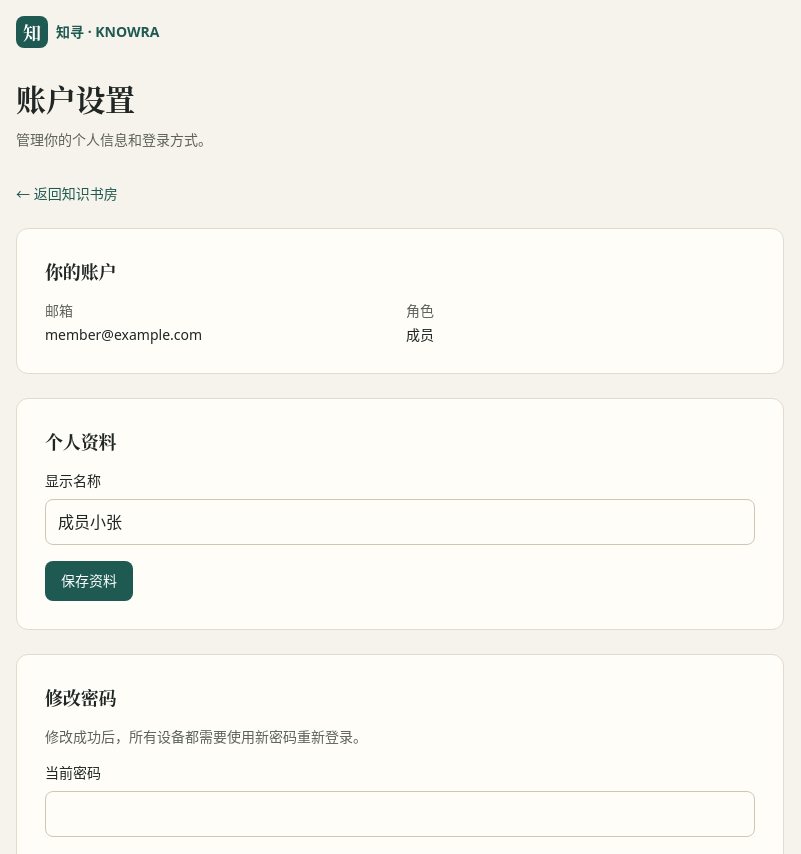
Test case: AccountView › 保存显示名并更新当前用户
Replace the text in the field with test id "profile-name" with "新名字": (400, 522) [45,499,755,545]
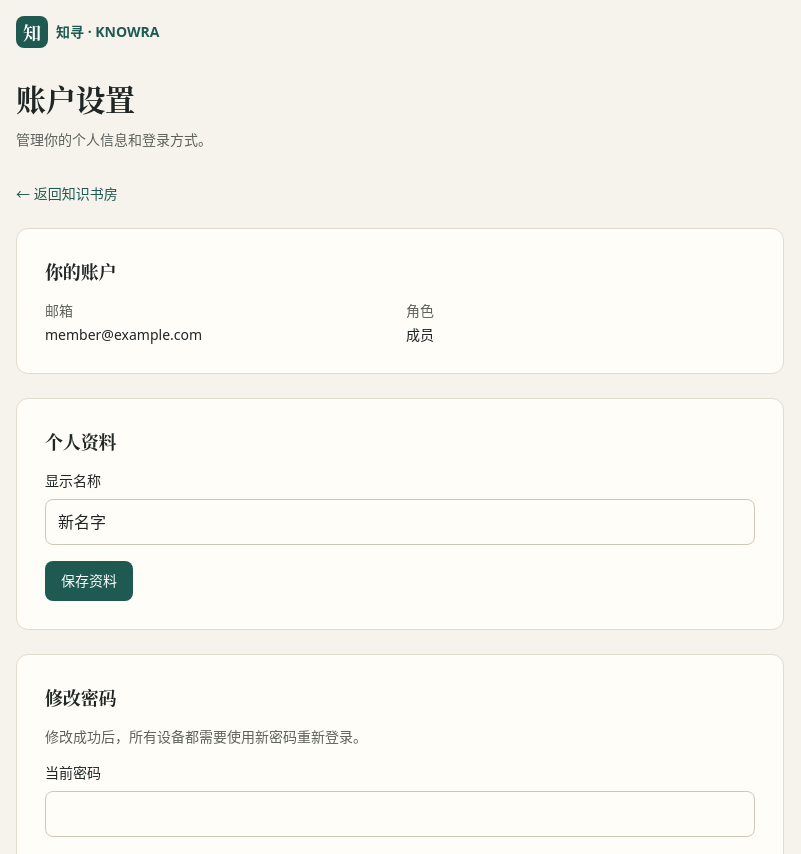
Submit the form with test id "profile-form", box [16,398,784,630]
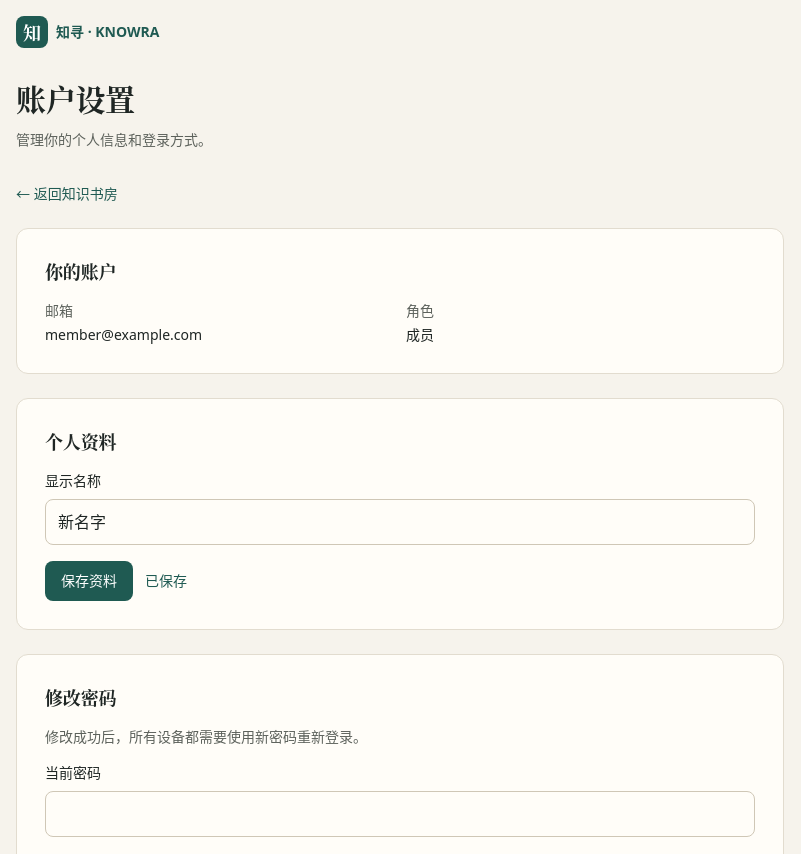
Expected: the message with test id "profile-status" reads "已保存", [145,571,187,590]
